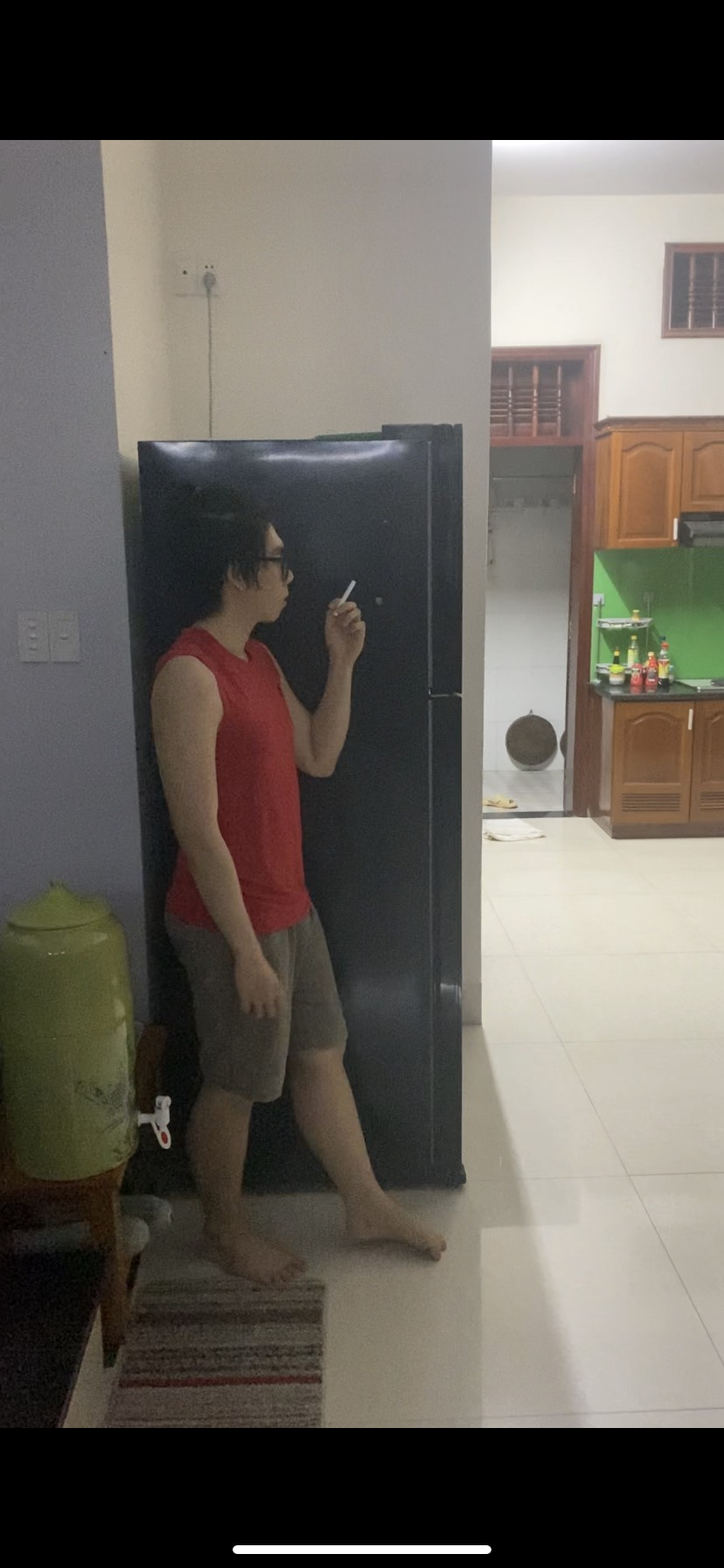cigarette: (338, 576, 362, 604)
person: (146, 488, 464, 1325)
